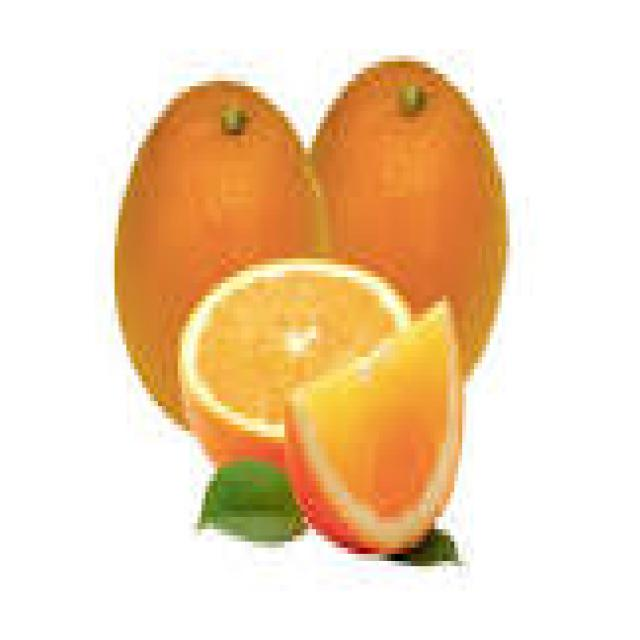orange: (116, 82, 316, 423), (312, 62, 506, 374), (179, 259, 410, 465), (286, 300, 461, 553)
